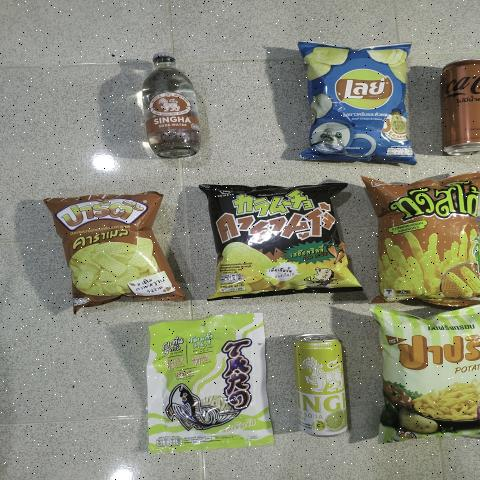coke_red: (437, 55, 480, 162)
karamujo: (209, 188, 346, 286)
lay_blue: (309, 47, 408, 153)
paprika: (382, 311, 480, 446)
party_red: (67, 195, 146, 309)
singha_soda: (141, 55, 208, 159)
singha_yellow: (292, 330, 353, 441)
taro_yellow: (142, 324, 264, 446)
twisco: (364, 180, 480, 300)
